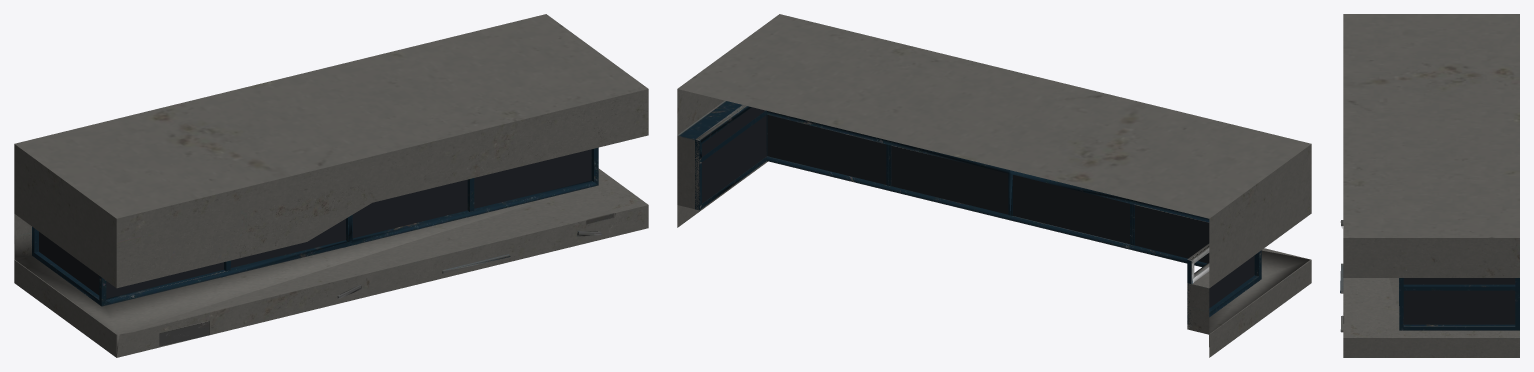
Rendered from sm_cb01_module08.glb.
3 renders of one model, left to right at view 1: azimuth 30°, elevation 25°; view 2: azimuth 150°, elevation 25°; view 3: azimuth 270°, elevation 25°, orthographic. The views are drawn at different scales.
Visible parts, largest first — view 1: sm_cb01_module08_00; view 2: sm_cb01_module08_00; view 3: sm_cb01_module08_00.
Boxes of the visible parts, x1,y1,x2,y2 form: sm_cb01_module08_00: (14, 14, 648, 357); sm_cb01_module08_00: (677, 14, 1311, 357); sm_cb01_module08_00: (1340, 14, 1519, 357).
Bounding box in the file's own units: 12 × 3 × 4.07.
2 materials, 1 textured.
